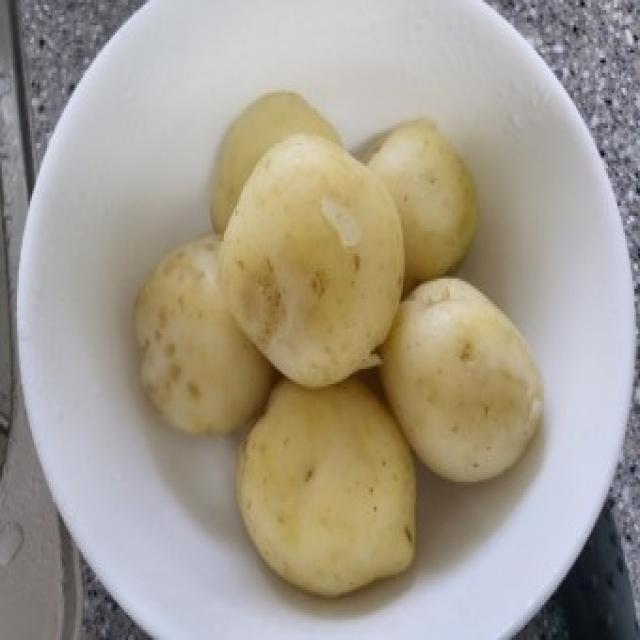potato: (216, 129, 410, 387), (232, 365, 422, 596), (381, 270, 544, 490), (133, 225, 280, 440), (204, 86, 344, 242), (354, 117, 479, 284)
